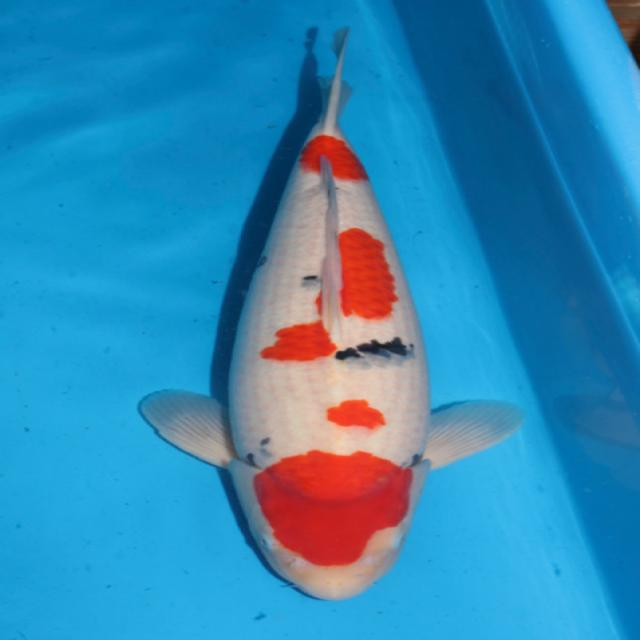Sanke: (135, 24, 524, 601)
